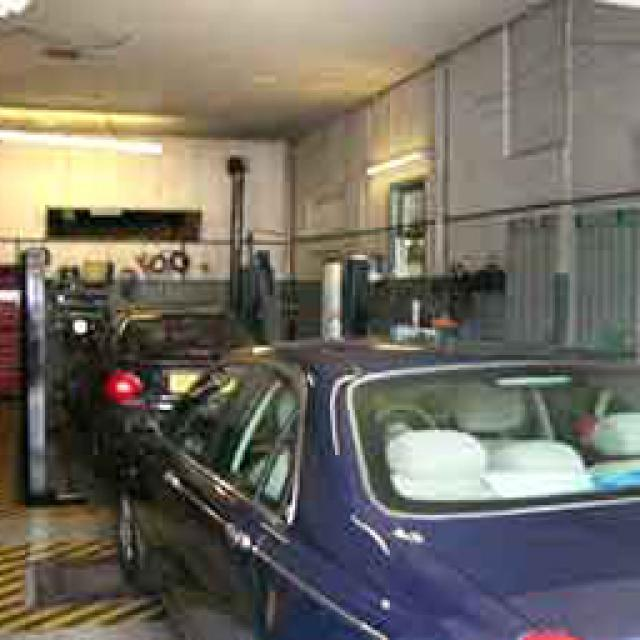car: (72, 295, 260, 475)
car occluded: (115, 332, 635, 638)
floor -X: (0, 395, 638, 635)
lamp crop: (2, 105, 178, 122), (362, 148, 418, 175)
wall clock: (278, 0, 635, 478), (0, 123, 288, 400)
